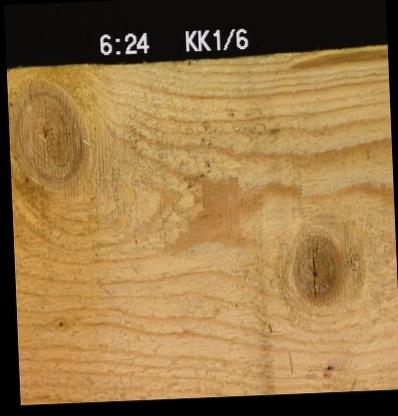small_knot: (52, 316, 66, 330)
sound_knot: (8, 63, 106, 198), (285, 227, 346, 311)
